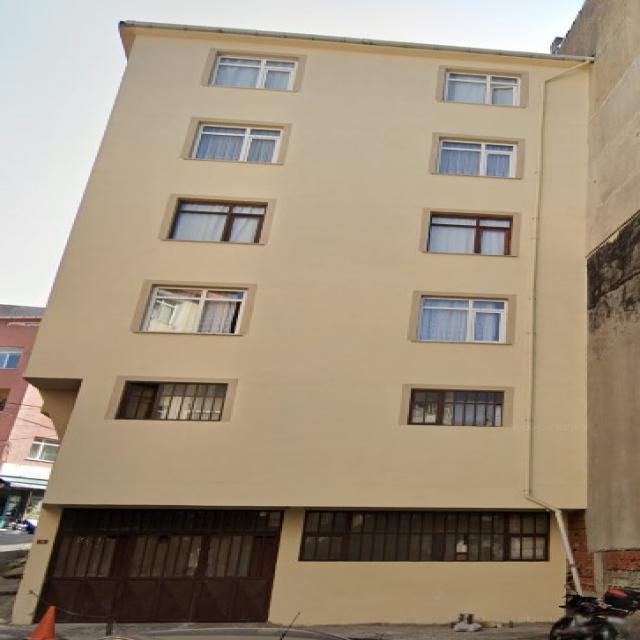Building: (10, 21, 595, 623)
